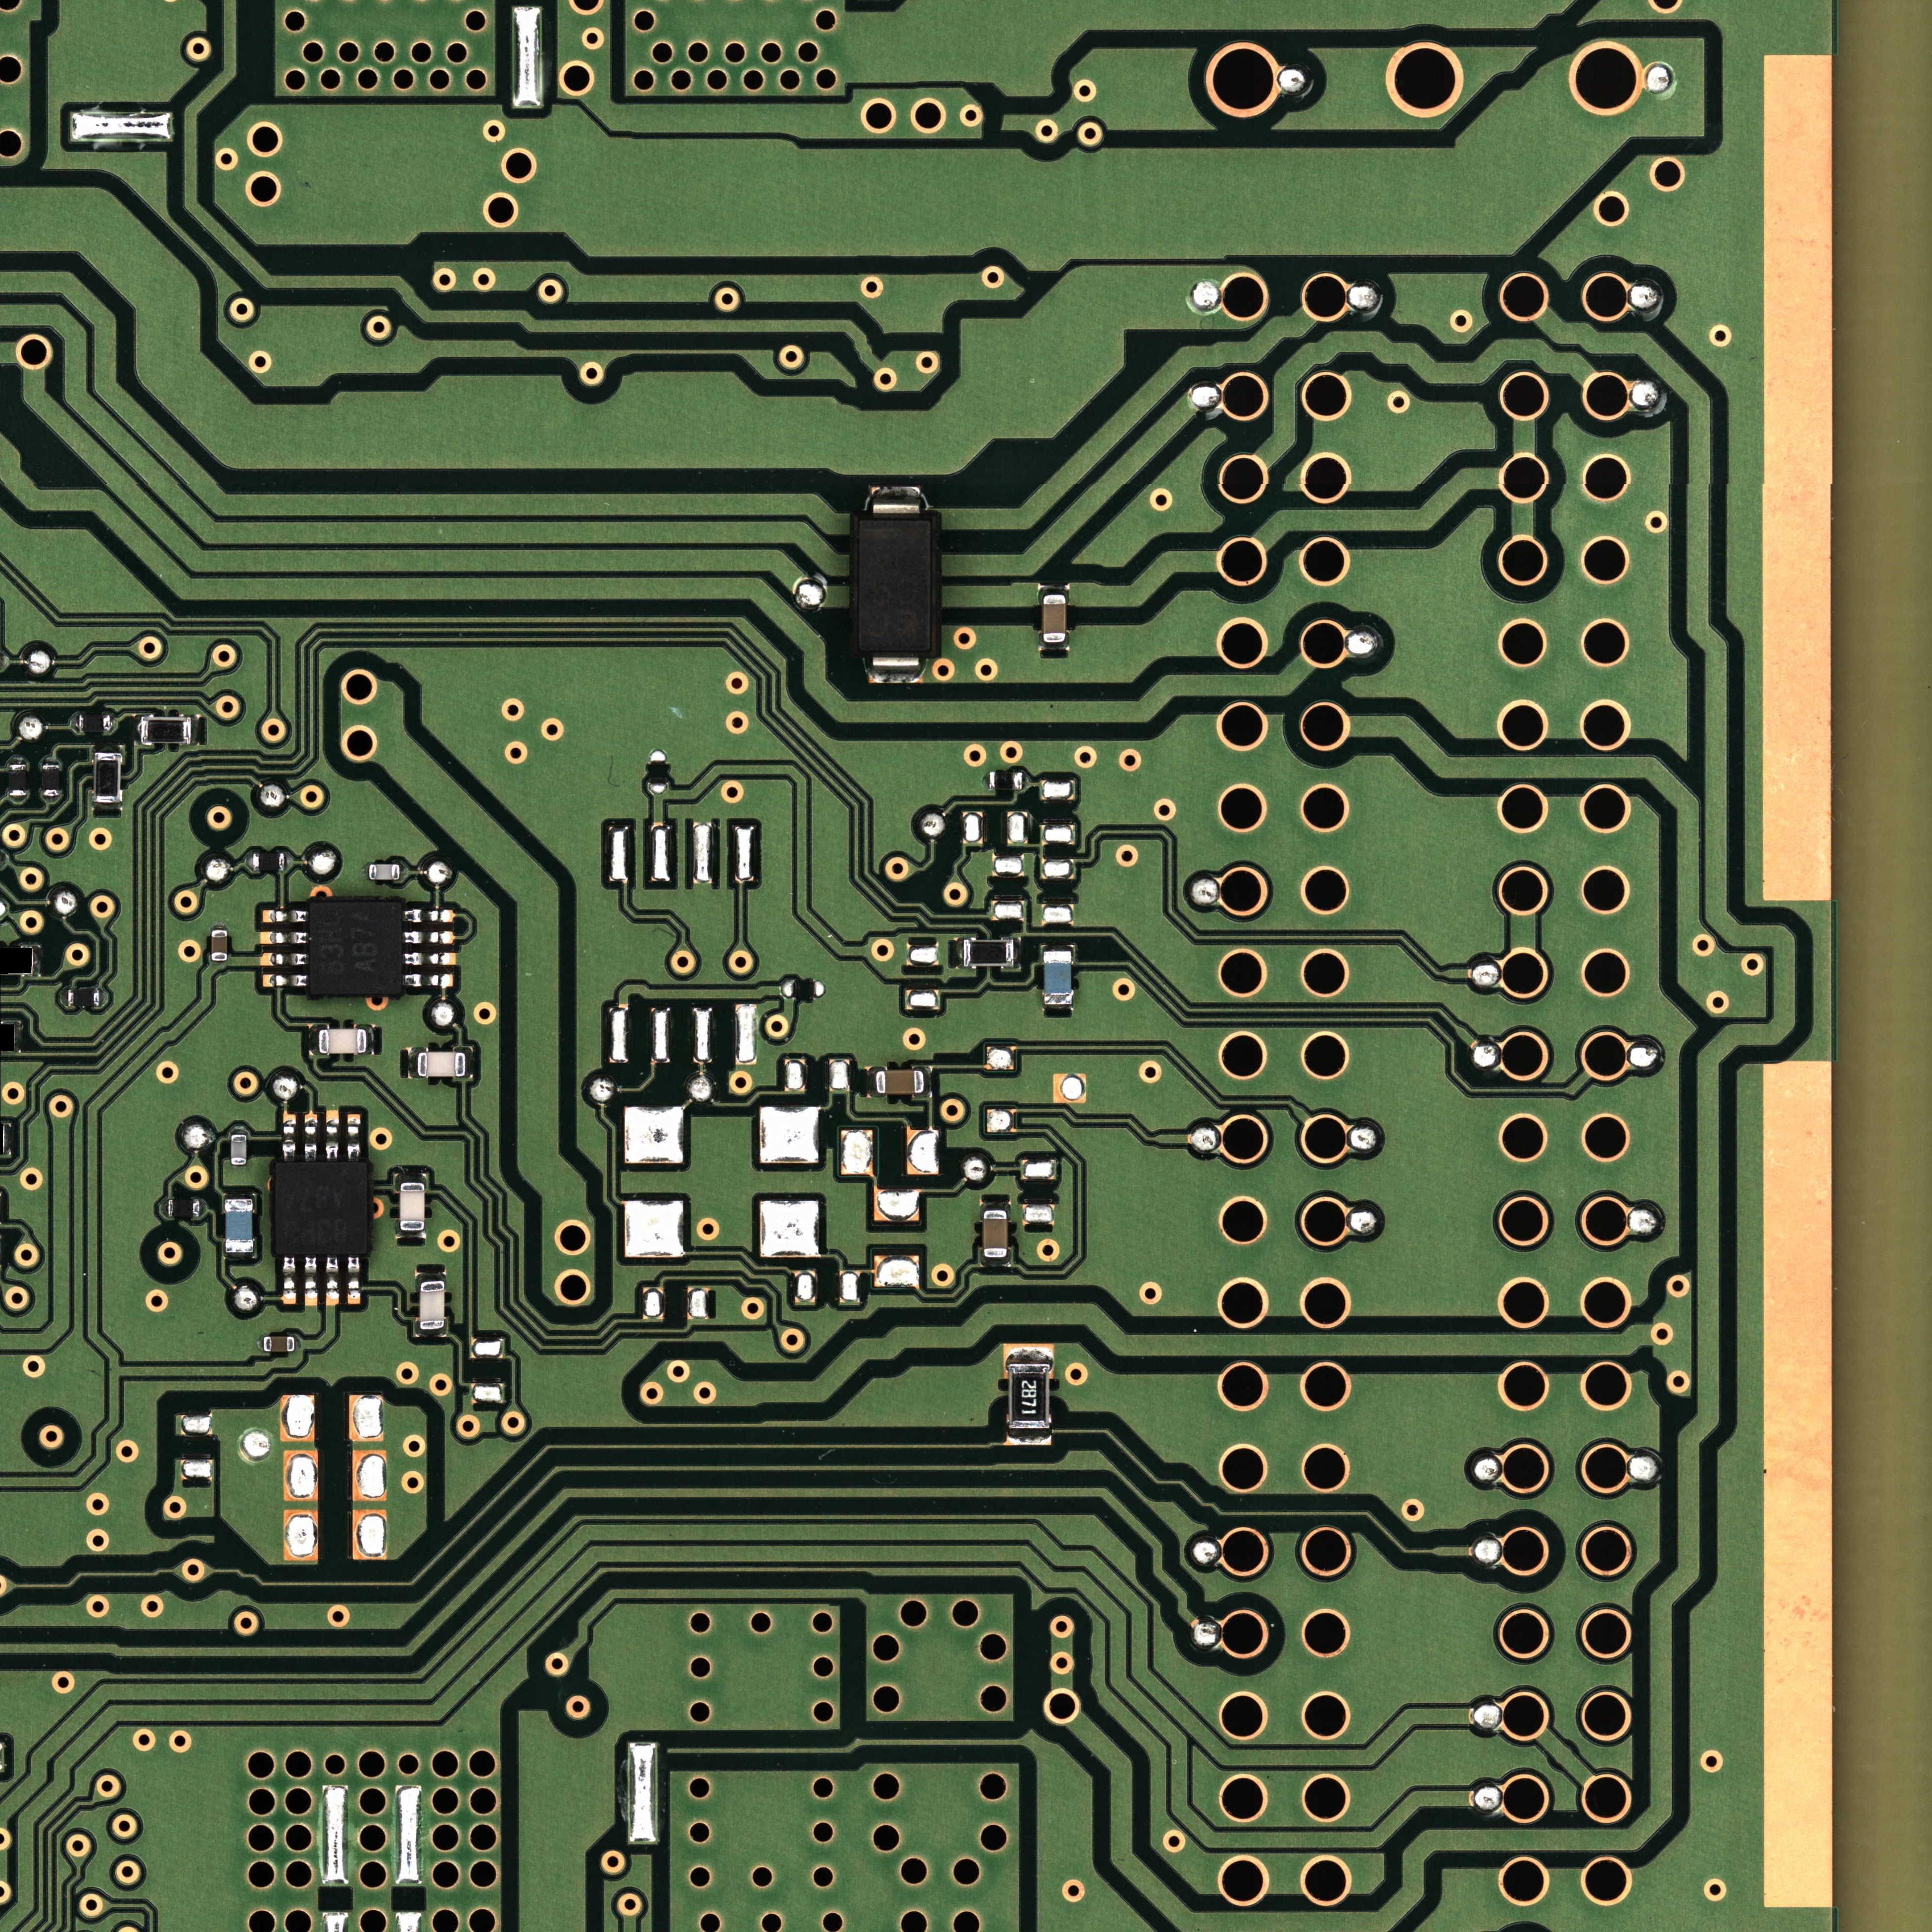Package: (858, 520, 931, 651), (310, 902, 402, 994), (276, 1162, 366, 1254), (1008, 1364, 1049, 1430), (225, 1200, 253, 1253), (1044, 952, 1072, 1005), (964, 939, 1014, 966), (142, 717, 191, 743), (96, 754, 120, 801), (418, 1053, 465, 1077), (419, 1281, 444, 1329), (1042, 594, 1067, 642), (400, 1184, 425, 1230), (876, 1070, 924, 1093), (318, 1030, 366, 1053), (984, 1210, 1007, 1258), (989, 771, 1023, 789), (9, 764, 27, 796), (253, 853, 285, 870), (67, 989, 99, 1007), (168, 1200, 200, 1217), (80, 715, 110, 732), (42, 764, 58, 796), (370, 863, 400, 879), (264, 1336, 294, 1352), (212, 931, 226, 961), (232, 1134, 246, 1164)
Solder: (867, 651, 924, 683), (870, 487, 922, 518), (1003, 1343, 1054, 1364), (403, 952, 456, 966), (1007, 1430, 1053, 1445), (403, 931, 455, 945), (403, 909, 455, 924), (326, 1254, 340, 1306), (281, 1111, 295, 1161), (281, 1256, 295, 1306), (347, 1256, 361, 1306), (304, 1256, 318, 1306), (260, 931, 308, 945), (260, 952, 308, 966), (347, 1113, 361, 1161), (262, 909, 308, 924), (262, 973, 308, 987), (403, 975, 455, 987), (304, 1111, 317, 1161), (326, 1111, 338, 1161), (1039, 584, 1069, 594), (32, 947, 42, 977), (310, 1024, 318, 1056), (409, 1047, 418, 1079), (223, 1189, 255, 1198), (980, 1258, 1012, 1267), (14, 1021, 23, 1053), (92, 743, 122, 752), (191, 715, 200, 745), (416, 1329, 446, 1338), (396, 1173, 426, 1182), (416, 1272, 446, 1281), (955, 938, 964, 968), (924, 1067, 932, 1097), (867, 1067, 876, 1097), (1039, 642, 1069, 651), (980, 1201, 1010, 1210), (1042, 945, 1074, 952), (1014, 938, 1021, 970), (5, 1123, 12, 1155), (92, 803, 122, 810), (134, 715, 142, 745), (366, 1024, 373, 1054), (396, 1231, 426, 1238), (465, 1047, 472, 1077), (225, 1253, 255, 1260), (41, 755, 60, 764), (359, 862, 368, 881), (1042, 1005, 1074, 1010), (244, 853, 253, 870), (9, 755, 27, 764), (211, 961, 228, 970), (41, 796, 60, 803), (211, 922, 228, 929), (285, 853, 292, 870), (9, 796, 27, 803), (402, 863, 409, 881), (230, 1127, 248, 1134), (161, 1200, 168, 1217), (257, 1334, 264, 1352), (295, 1336, 303, 1353), (230, 1164, 248, 1171), (60, 989, 67, 1007), (99, 989, 106, 1007), (982, 771, 989, 789), (1023, 771, 1030, 789), (71, 715, 78, 731), (111, 717, 119, 731), (200, 1200, 205, 1215)
